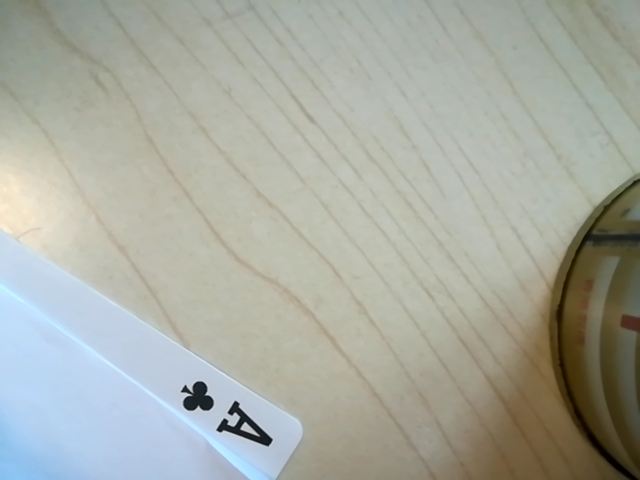mh a: (162, 374, 288, 463)
